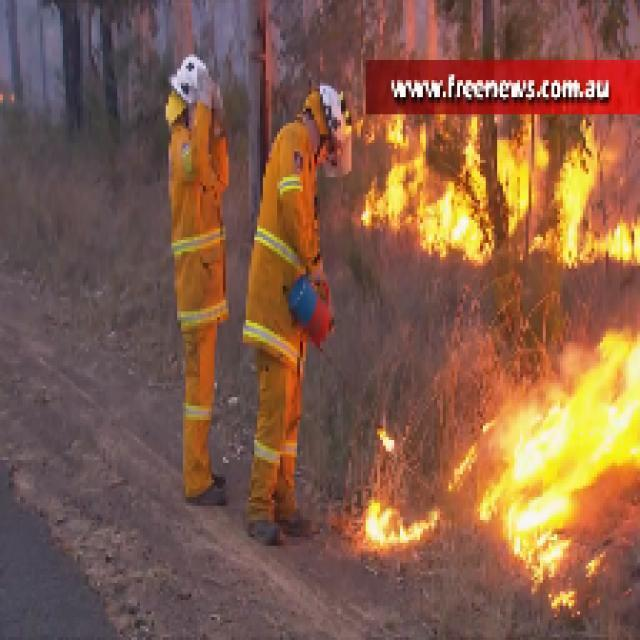Fire: (449, 378, 640, 618), (388, 113, 632, 259)
